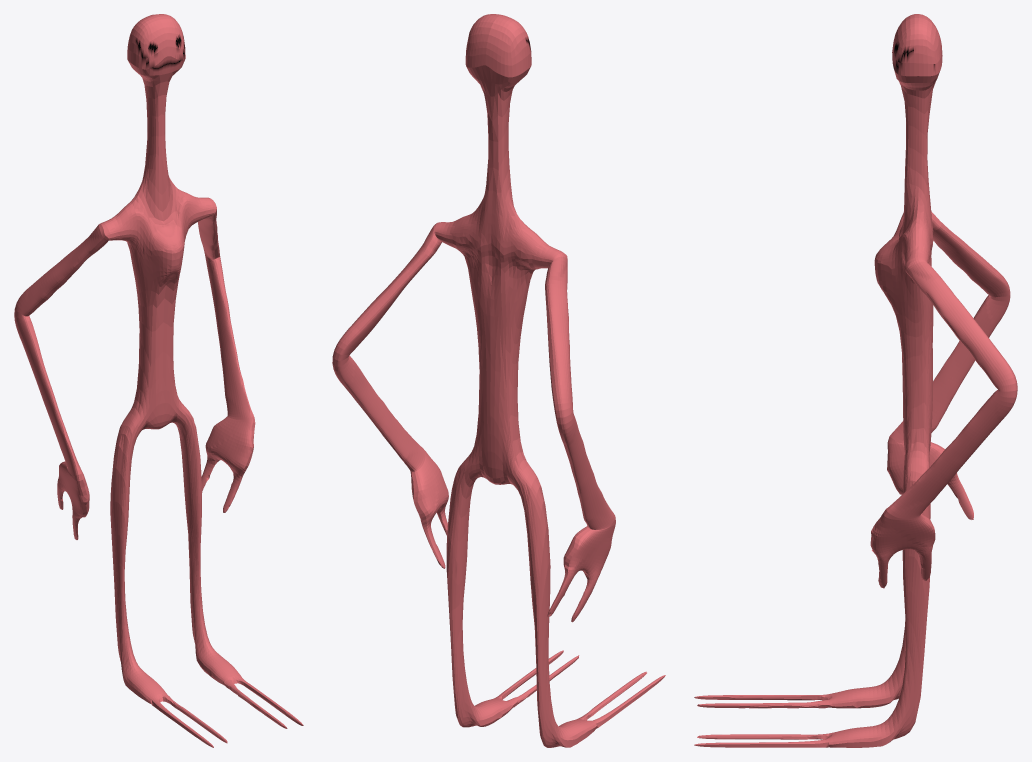
The model's file is smilingMan.obj.
3 views of the same model, side by side, from view 1: azimuth 30°, elevation 25°; view 2: azimuth 150°, elevation 25°; view 3: azimuth 270°, elevation 25° (orthographic). The views are drawn at different scales.
Parts seen in each view (by area): view 1: Retopo_Cube.002; view 2: Retopo_Cube.002; view 3: Retopo_Cube.002.
Boxes of the visible parts, left/top/right/bottom form: Retopo_Cube.002: left=14, top=14, right=303, bottom=747; Retopo_Cube.002: left=332, top=14, right=665, bottom=747; Retopo_Cube.002: left=694, top=14, right=1017, bottom=747.
Size of the model in its own units: 4.02 by 12.09 by 5.03.
